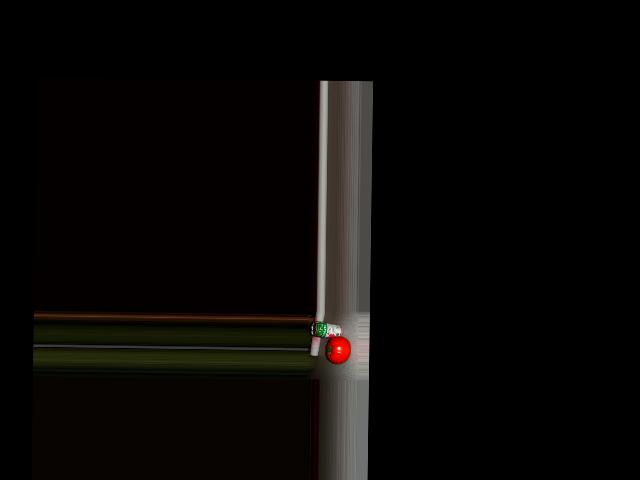tomato: (327, 336, 351, 364)
